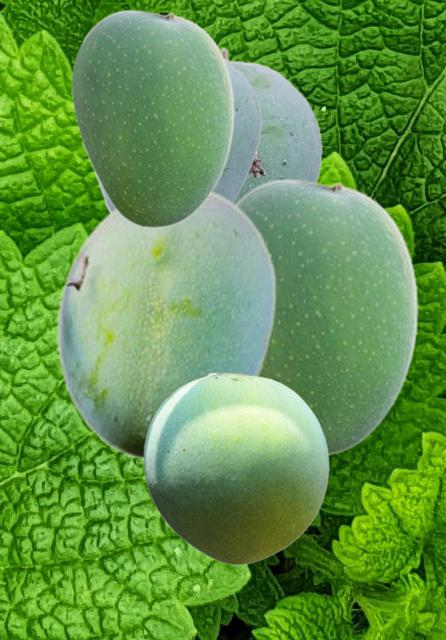green_mango: (55, 188, 276, 459), (235, 178, 418, 455), (143, 371, 328, 564), (71, 9, 234, 227), (94, 55, 261, 211), (221, 47, 322, 199)
